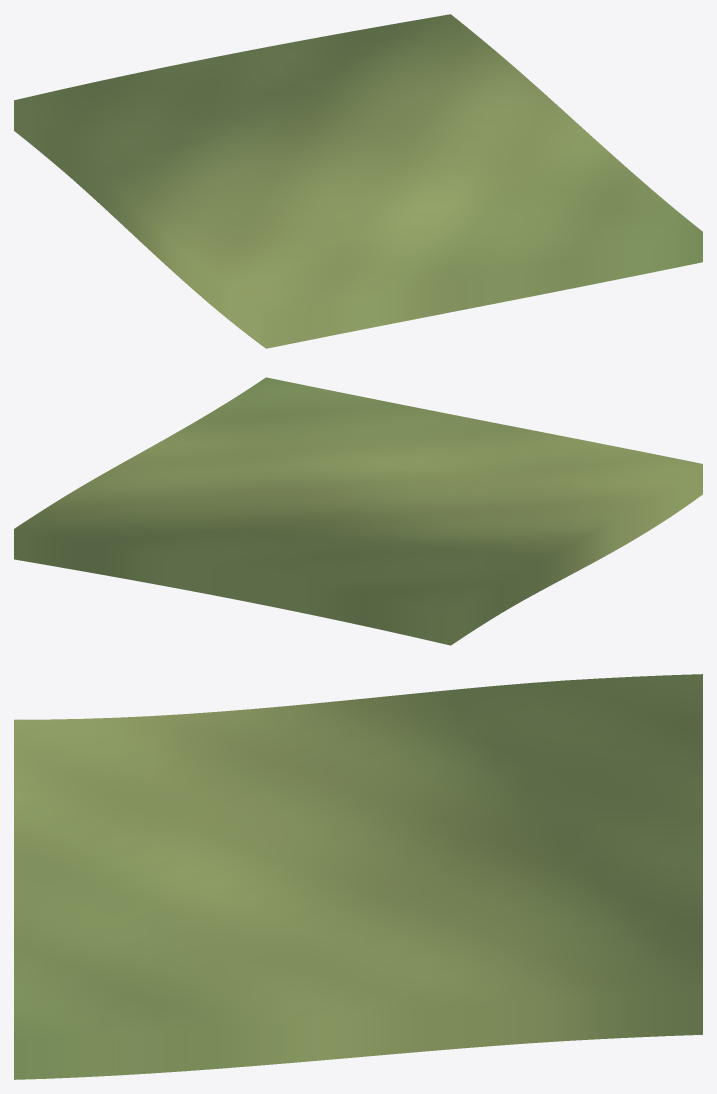
The picture shows the model from 3 angles, top to bottom: view 1: azimuth 30°, elevation 25°; view 2: azimuth 150°, elevation 25°; view 3: azimuth 270°, elevation 25°; orthographic projection. The views are drawn at different scales.
Parts seen in each view (by area): view 1: terrain; view 2: terrain; view 3: terrain.
Part boxes in pixels (x1,y1,x2,y2): terrain: [14, 14, 702, 348]; terrain: [14, 377, 702, 645]; terrain: [14, 674, 702, 1079].
Size of the model in its own units: 30 by 5.5 by 30.
